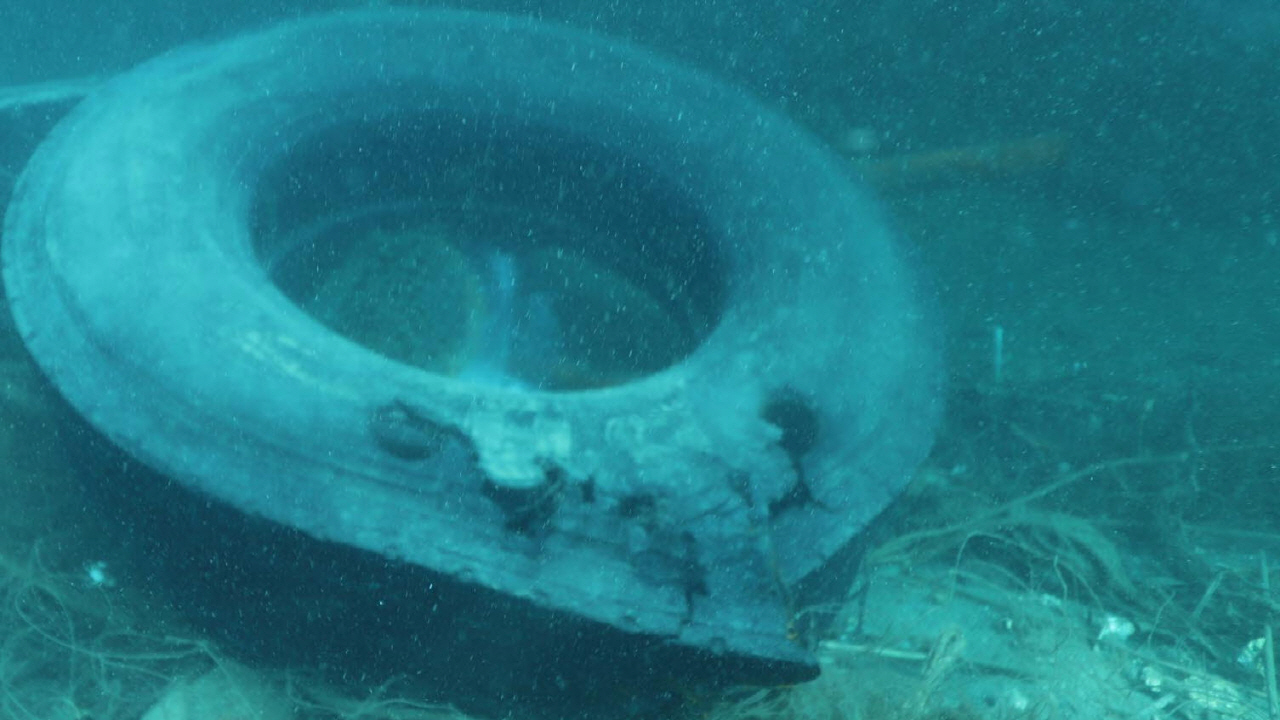tire: (0, 0, 941, 698)
